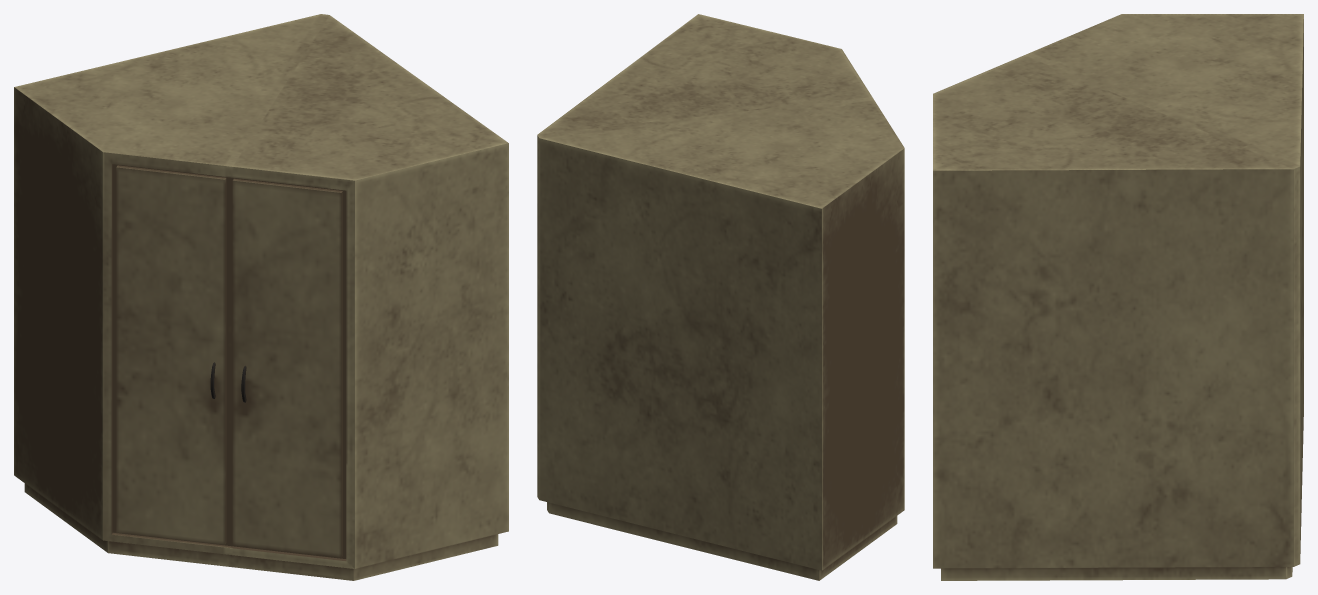
The model's file is Armario_L_Curva.fbx.
3 views of the same model, side by side, from view 1: azimuth 30°, elevation 25°; view 2: azimuth 150°, elevation 25°; view 3: azimuth 270°, elevation 25° (orthographic). The views are drawn at different scales.
Parts seen in each view (by area): view 1: Armario_Quina; view 2: Armario_Quina; view 3: Armario_Quina.
Part boxes in pixels (x1,y1,x2,y2): Armario_Quina: (14,14,508,580); Armario_Quina: (537,14,904,580); Armario_Quina: (933,14,1303,580).
Bounding box in the file's own units: 201 × 248 × 201.
